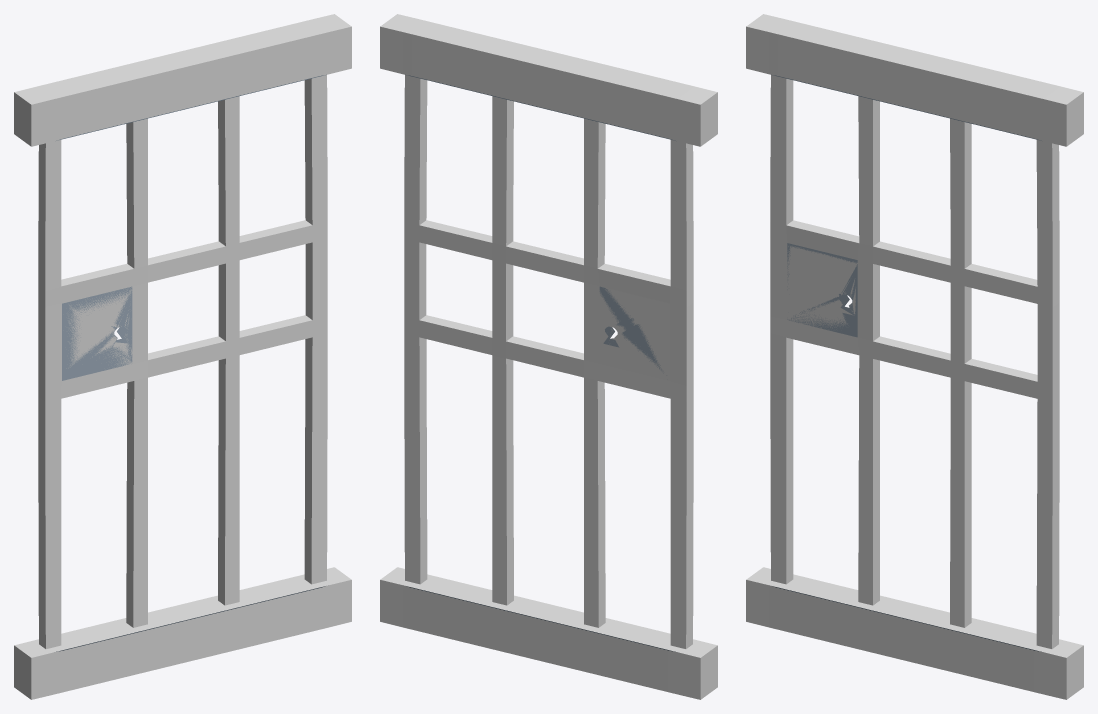
File: GabbiaPorta.fbx
The picture shows the model from 3 angles, left to right: view 1: azimuth 30°, elevation 25°; view 2: azimuth 150°, elevation 25°; view 3: azimuth 330°, elevation 25°; orthographic projection.
Parts seen in each view (by area): view 1: porta, Cube.004; view 2: porta, Cube.004; view 3: porta, Cube.004.
Part boxes in pixels (x1=…): porta: x1=38, y1=75, x2=327, y2=648; Cube.004: x1=14, y1=14, x2=351, y2=699; porta: x1=404, y1=75, x2=693, y2=648; Cube.004: x1=380, y1=14, x2=717, y2=699; porta: x1=770, y1=75, x2=1059, y2=648; Cube.004: x1=746, y1=14, x2=1083, y2=699.
Size of the model in its own units: 1.63 by 2.9 by 0.153.
